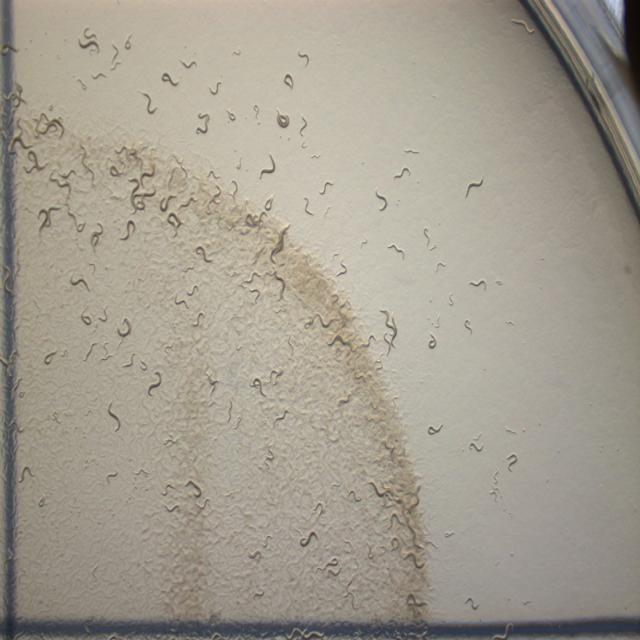filarid: (269, 225, 289, 298), (382, 310, 398, 347), (90, 222, 104, 252), (242, 270, 270, 284), (148, 370, 162, 397), (108, 402, 121, 430), (195, 245, 214, 263), (245, 212, 264, 230), (120, 219, 136, 240), (422, 227, 436, 250), (206, 192, 220, 215), (465, 179, 482, 197), (375, 187, 388, 209), (70, 274, 89, 289), (118, 317, 131, 338), (261, 155, 275, 173), (170, 212, 180, 234), (389, 244, 405, 257), (188, 479, 201, 495), (255, 247, 268, 263), (395, 167, 411, 179), (506, 452, 518, 468), (164, 434, 181, 445), (320, 180, 332, 195), (132, 467, 151, 476), (469, 279, 486, 289), (162, 482, 175, 495), (81, 309, 91, 325), (470, 439, 482, 452), (428, 425, 442, 435), (429, 334, 438, 349), (100, 307, 108, 321), (122, 357, 132, 368), (340, 260, 346, 273), (464, 320, 471, 331), (108, 473, 116, 481), (140, 360, 146, 370), (77, 224, 84, 232), (140, 390, 145, 400), (406, 150, 418, 153), (438, 262, 445, 267), (172, 504, 180, 508), (231, 270, 239, 274), (506, 427, 511, 432), (200, 504, 204, 509)
